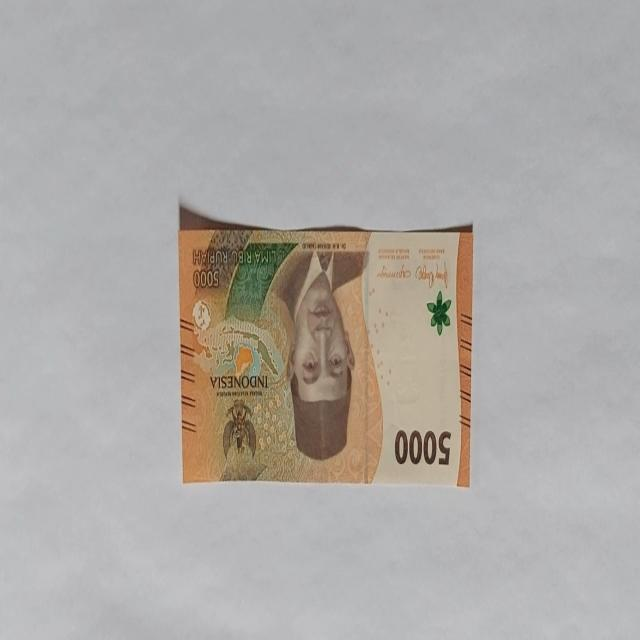lima ribu rupiah: (178, 203, 473, 488), (282, 248, 356, 462)
